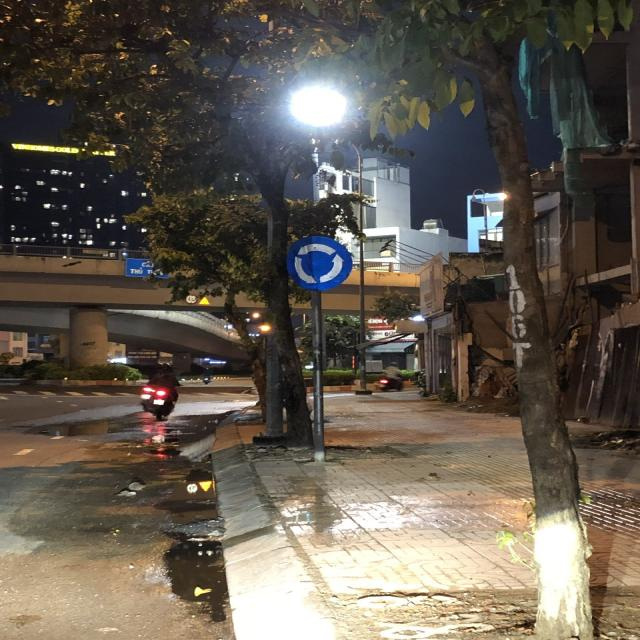Bien bao noi giao nhau chay theo vong xuyen: (283, 232, 357, 294)
